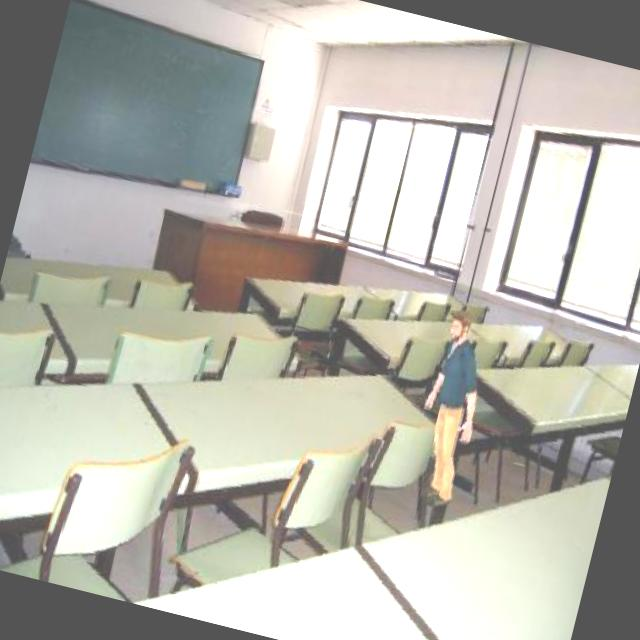Person: (400, 304, 500, 514)
